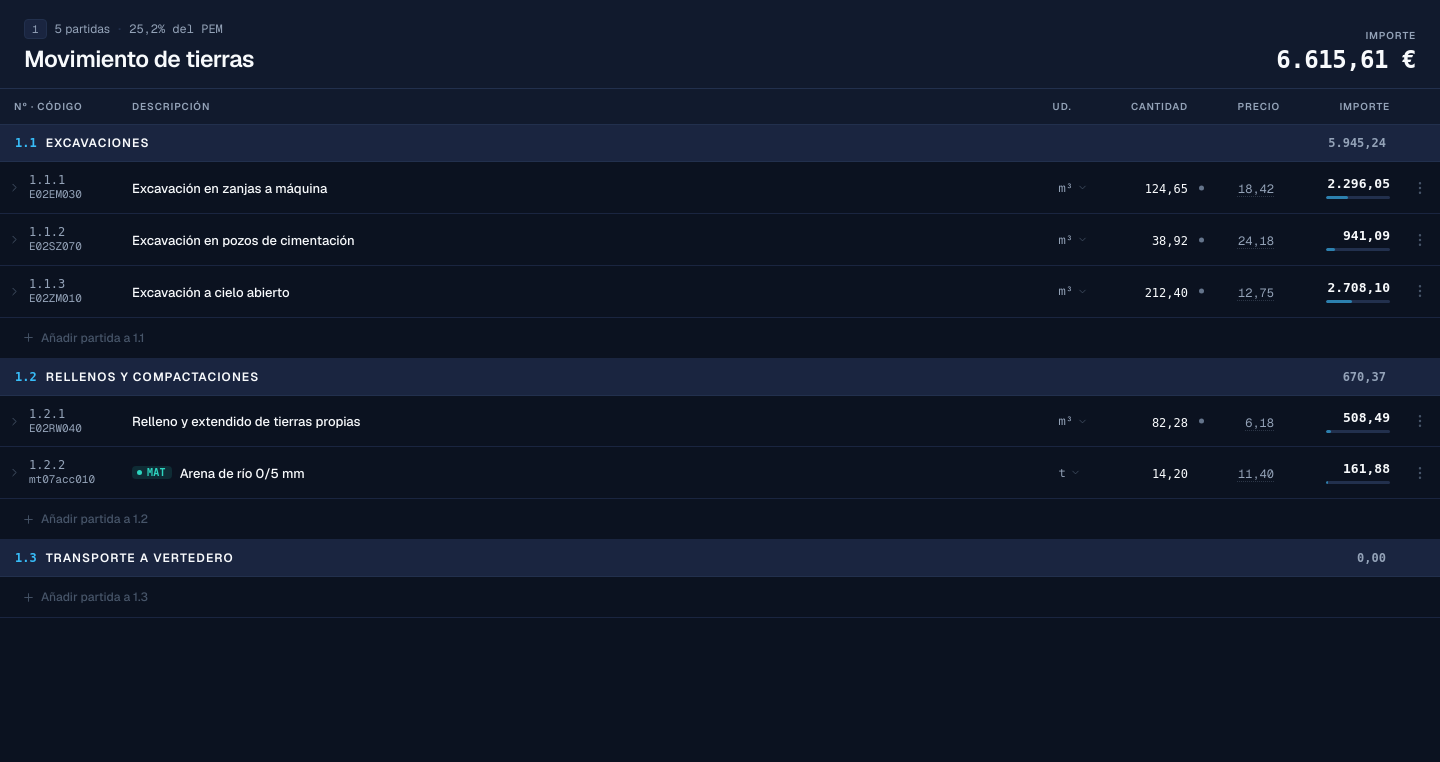
Scenario: PresupuestoView (F2.1 lectura + F2.2 detalle) › la pestaña Justificación muestra el banco compartido y la señal de override
The width and height of the screenshot is (1440, 762).
Click the text "E02EM030": {"x": 55, "y": 195} [29,188,82,202]
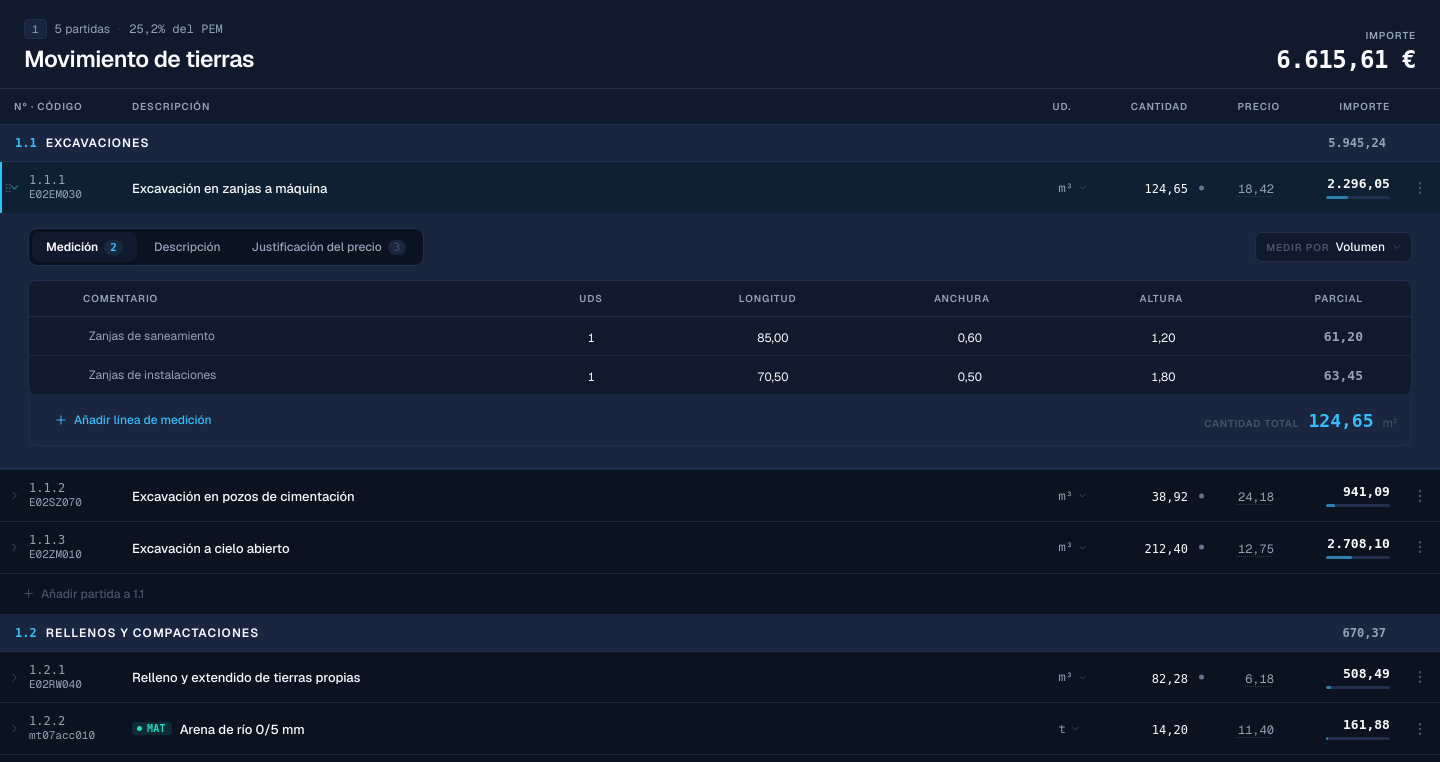
Click the button "Justificación del precio 3": {"x": 329, "y": 247} [238,232,420,262]
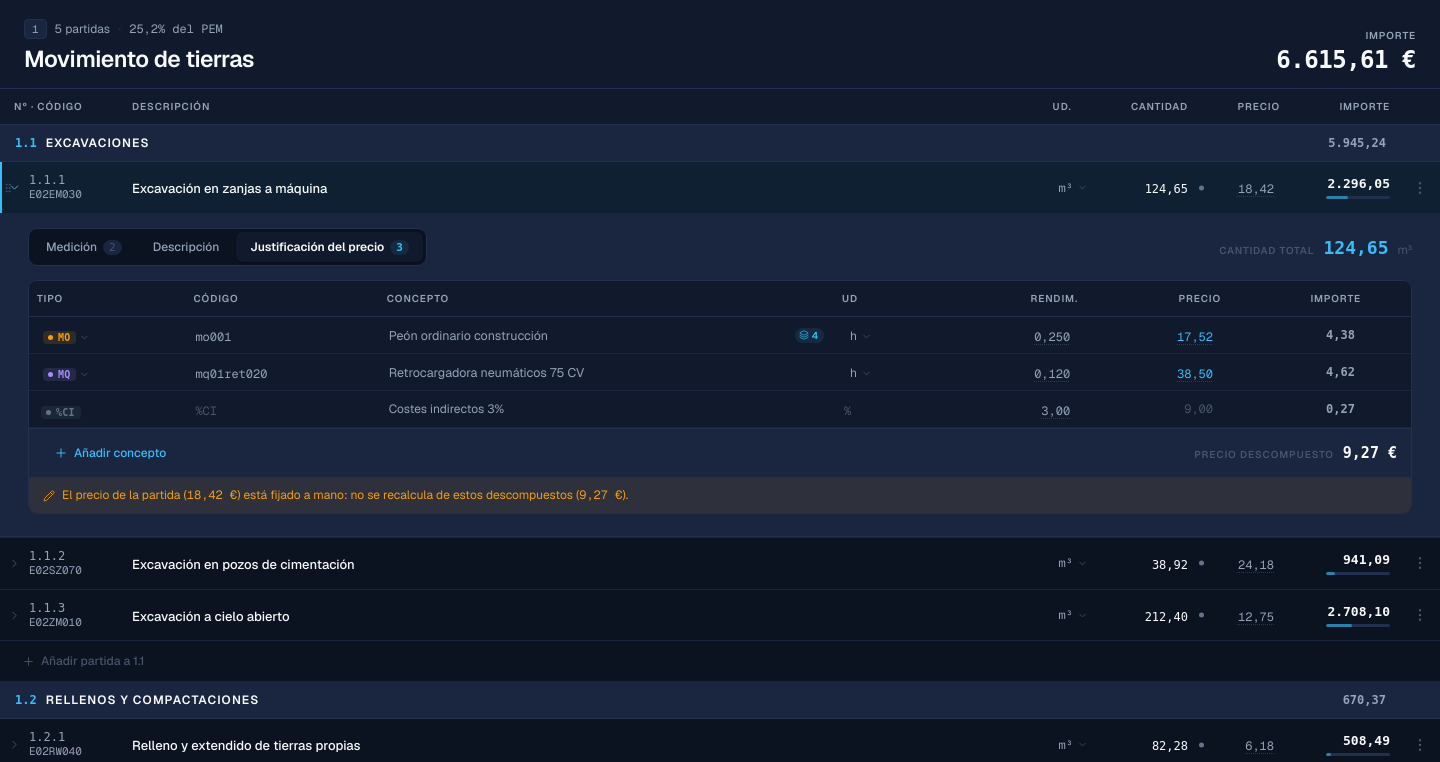
Check: the field "mo001" is shown, box [195,329,231,345]
Check: the text "no se recalcula de estos descompuestos" is shown, box [237,487,579,503]
